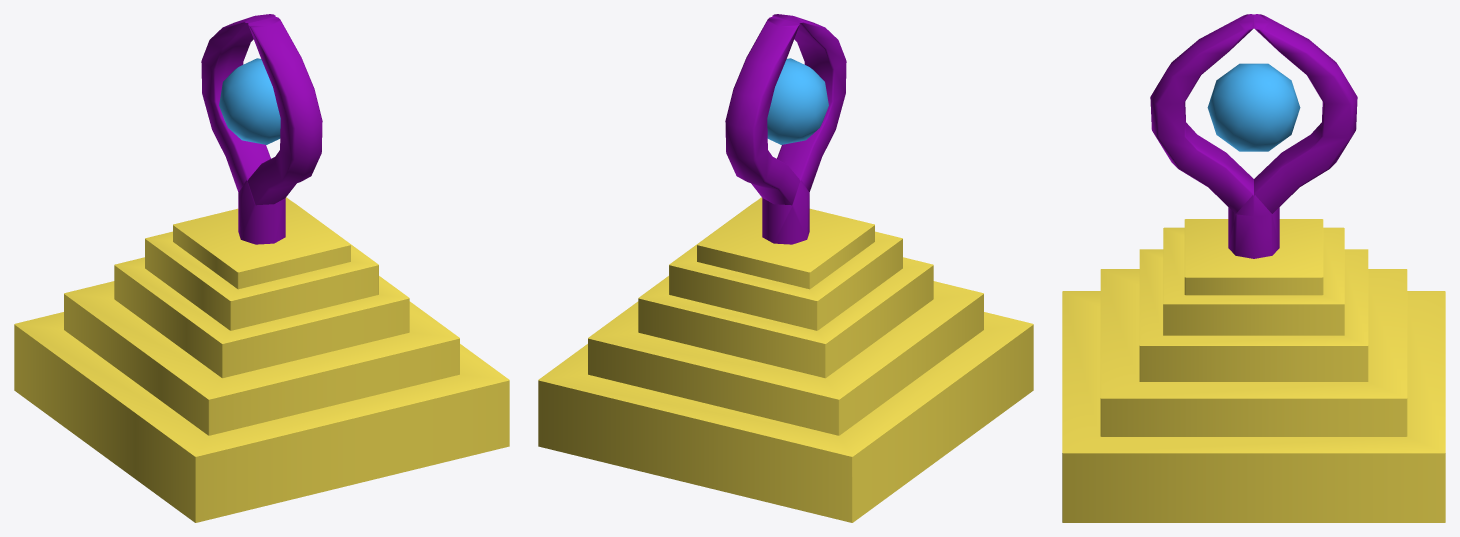
Rendered from temple3.fbx.
The picture shows the model from 3 angles, left to right: view 1: azimuth 30°, elevation 25°; view 2: azimuth 150°, elevation 25°; view 3: azimuth 270°, elevation 25°; orthographic projection. The views are drawn at different scales.
Visible parts, largest first — view 1: temple3; view 2: temple3; view 3: temple3.
Part boxes in pixels (bbox=[...]): temple3: bbox=[14, 14, 509, 522]; temple3: bbox=[538, 14, 1033, 522]; temple3: bbox=[1062, 14, 1445, 522].
Bounding box in the file's own units: 147 × 178 × 147.
